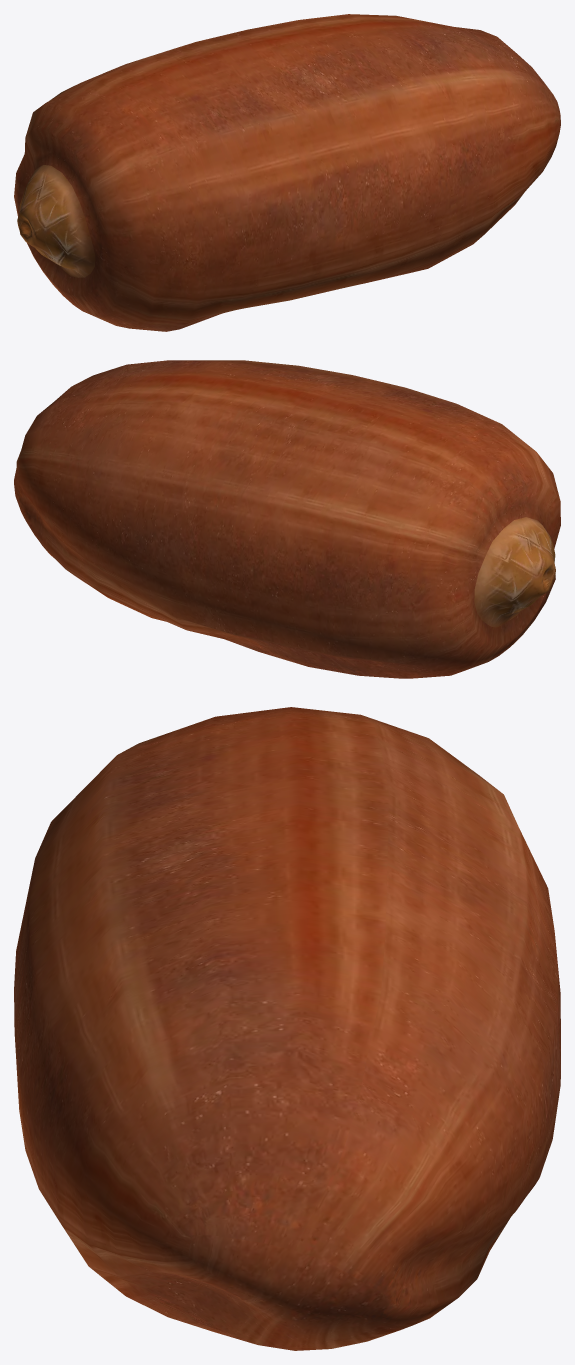
File: date_fruit-transformed.glb
3 views of the same model, one above another, from view 1: azimuth 30°, elevation 25°; view 2: azimuth 150°, elevation 25°; view 3: azimuth 270°, elevation 25° (orthographic). The views are drawn at different scales.
Parts seen in each view (by area): view 1: polySurface1_01 - Default_0; view 2: polySurface1_01 - Default_0; view 3: polySurface1_01 - Default_0.
Boxes of the visible parts, x1,y1,x2,y2 form: polySurface1_01 - Default_0: [14, 14, 560, 331]; polySurface1_01 - Default_0: [14, 360, 560, 678]; polySurface1_01 - Default_0: [14, 707, 560, 1350].
Bounding box in the file's own units: 0.4432 × 0.206 × 0.2364.
Materials: 1 (1 with a texture image).
